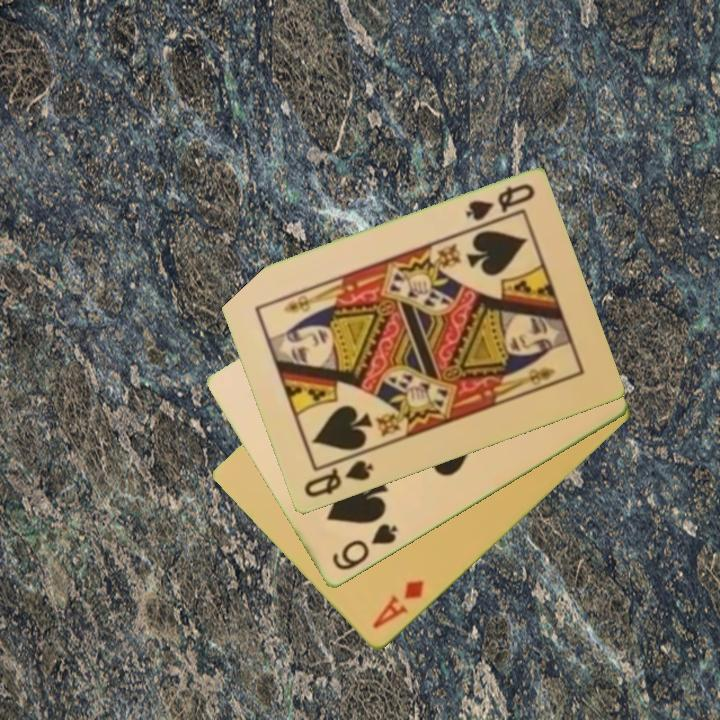6s: (328, 520, 401, 574)
Ad: (369, 576, 427, 633)
Qs: (461, 180, 538, 225), (300, 457, 376, 501)
